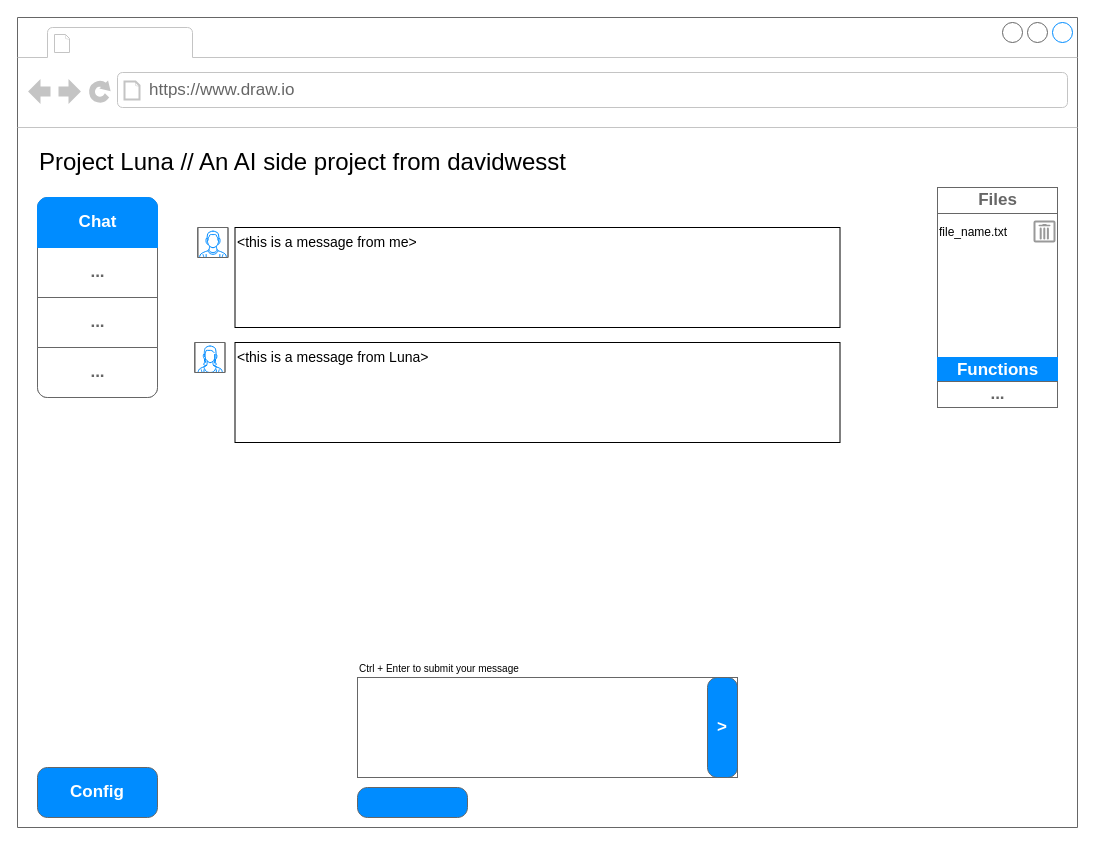
Some shapes in this 1095 by 845 pixel diagram are drawn without their labels. The box of each missing label's shape, as (x1, y1, x2, y2) in pixels:
Add File(s): (356, 786, 468, 818)
Line 1: (356, 676, 738, 778)
Page 1: (76, 28, 188, 56)
